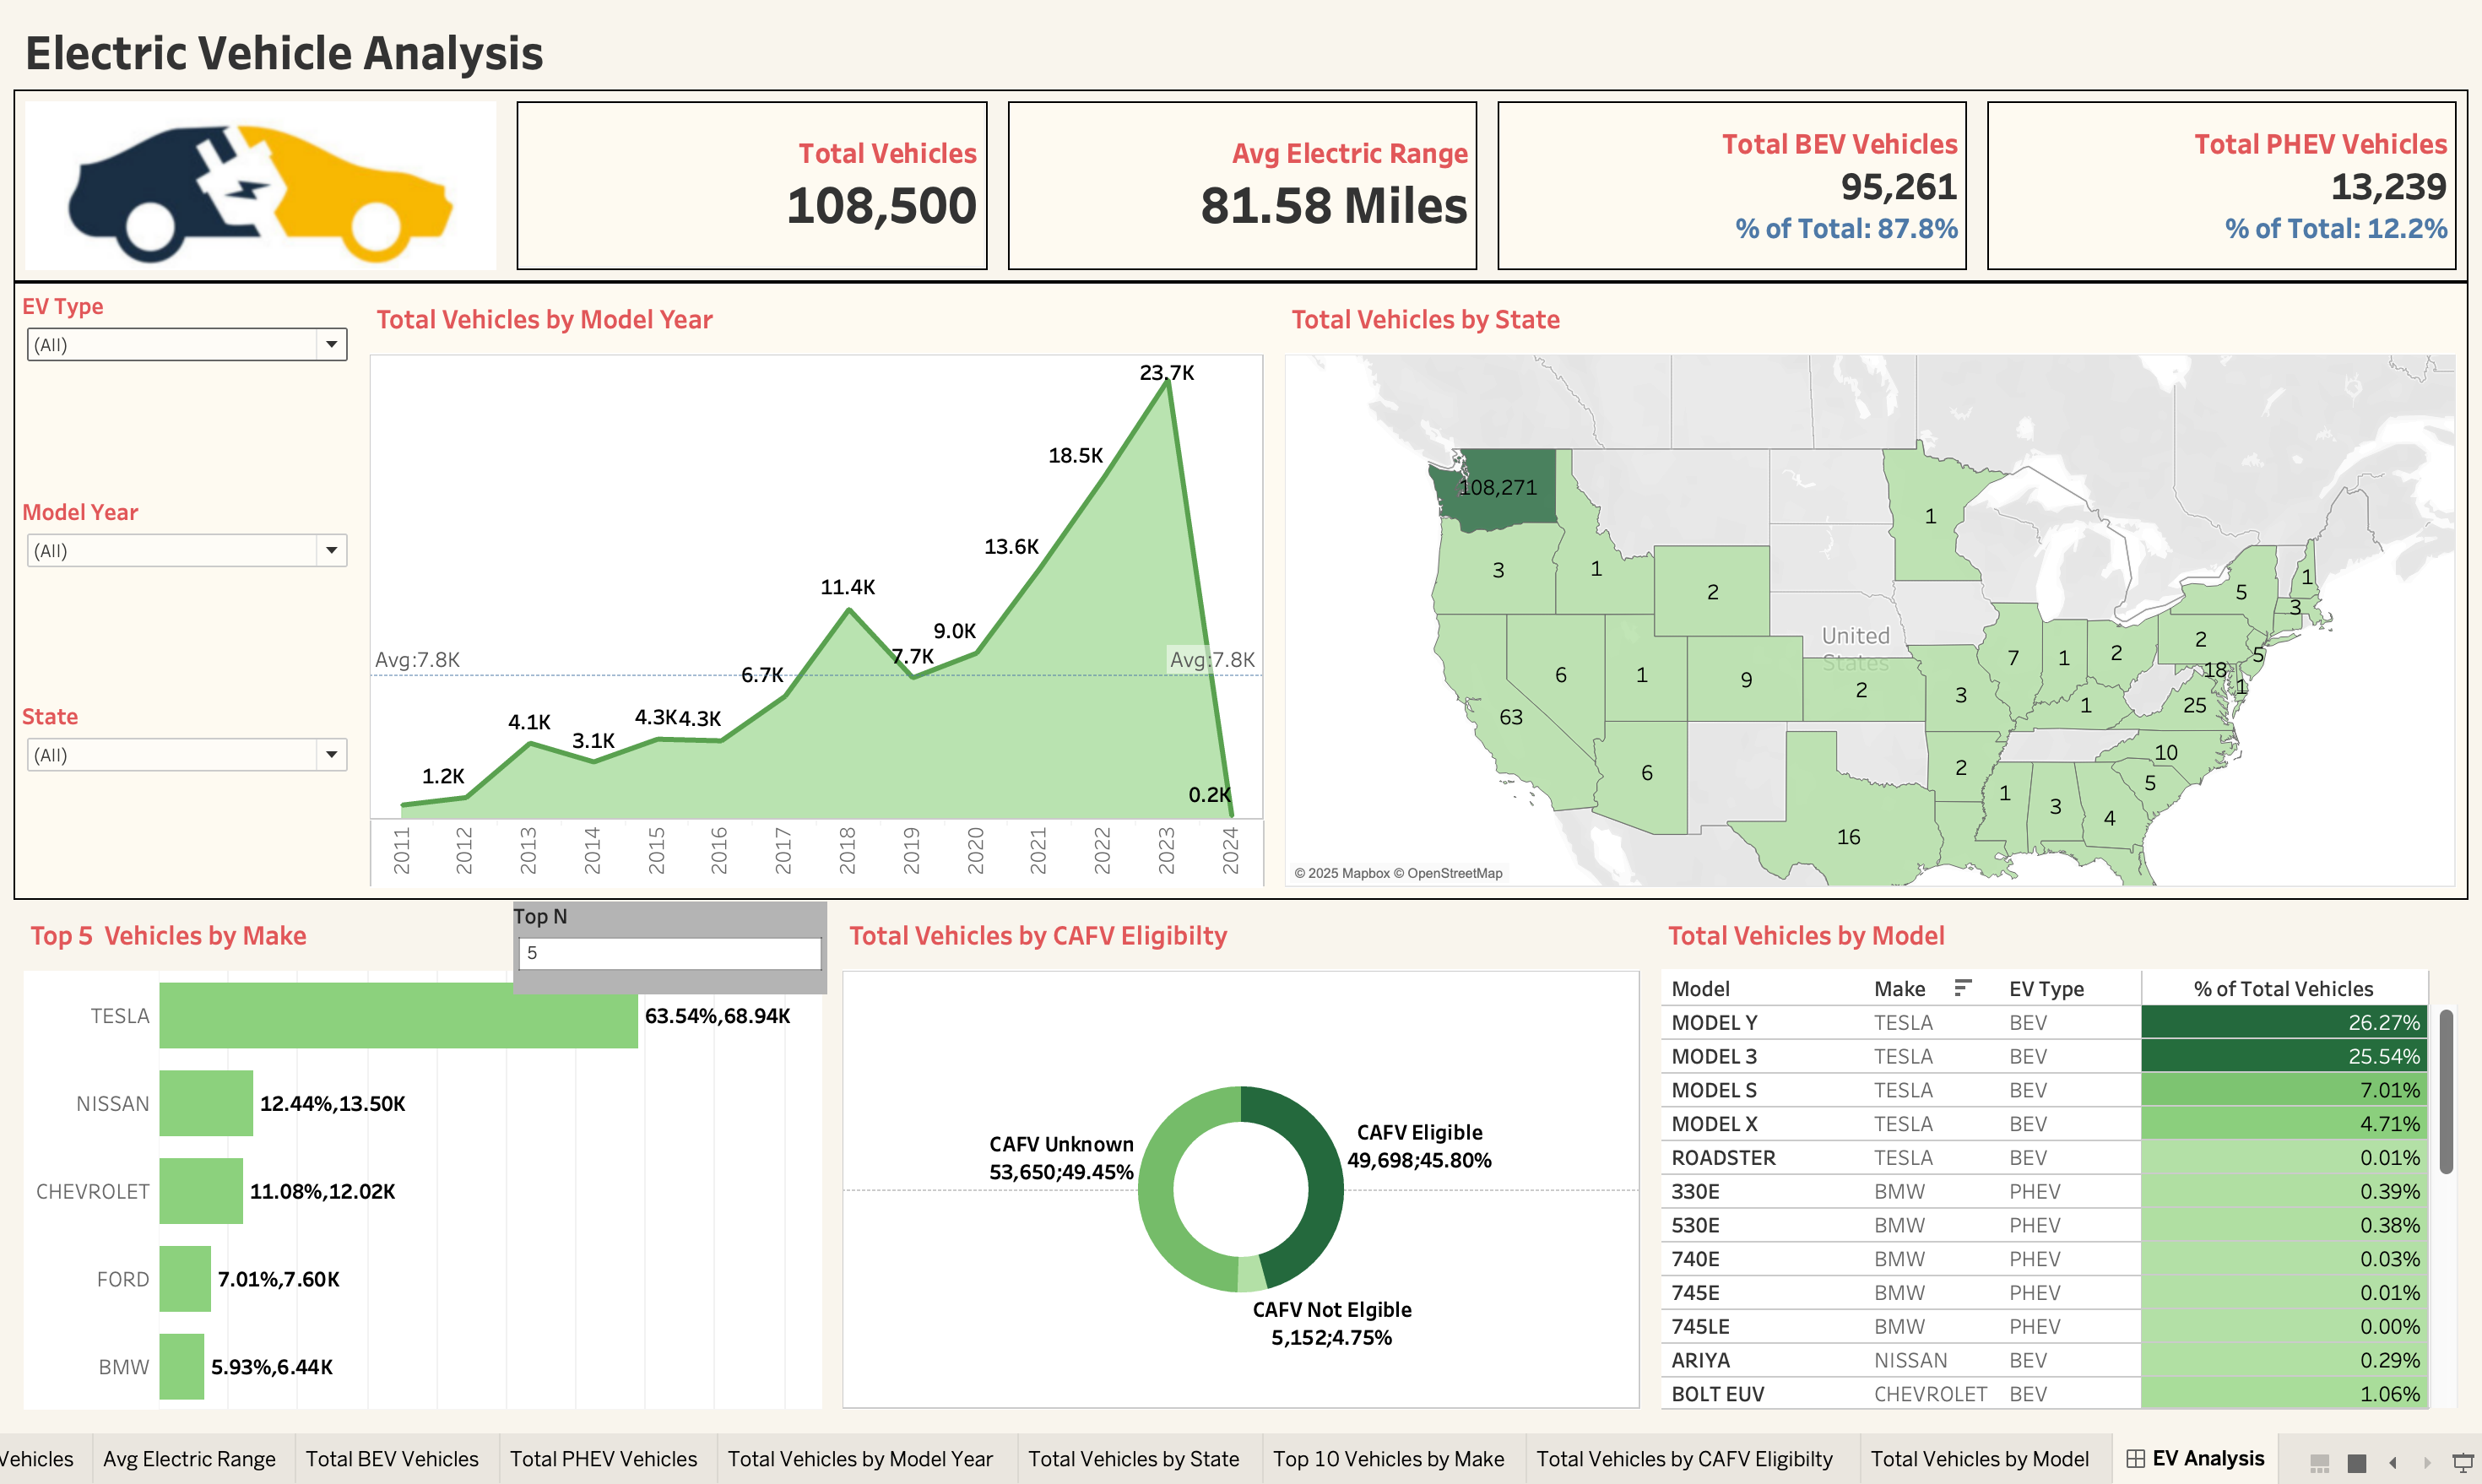

The dashboard page shown, as its layout file describes it:
{"tool":"tableau","page":{"name":"EV Analysis","canvas":[1000,1000],"units":"permille","ordinal":0},"visuals":[{"type":"title","box":[6.3,11.9,987.3,66.9]},{"type":"image","param":"Image/Screenshot 2025-01-26 at 3.29.00 AM.png","box":[7.1,80.2,197.8,127.8]},{"type":"worksheet","title":"Total Vehicles","mark":"Automatic","box":[204.9,80.2,197,127.8]},{"type":"worksheet","title":"Avg Electric Range","mark":"Automatic","box":[401.9,80.2,197,127.8]},{"type":"worksheet","title":"Total BEV Vehicles","mark":"Automatic","box":[598.9,80.2,197,127.8]},{"type":"worksheet","title":"Total PHEV Vehicles","mark":"Automatic","box":[795.9,80.2,197,127.8]},{"type":"worksheet","title":"Total Vehicles by Model Year","mark":"Area","rows":["Calculation_6984731218533982208","Calculation_6984731218533982208"],"cols":["Model Year"],"box":[168.5,210.7,428.8,414.8]},{"type":"worksheet","title":"Total Vehicles by State","mark":"Multipolygon","box":[597.3,210.7,395.6,414.8]},{"type":"filter","title":"Total Vehicles by Model Year","param":"[federated.1benvxc083y2tz1dtitz9054t0jk].[none:Electric Vehicle Type:nk]","box":[7.1,211,161.4,138.2]},{"type":"filter","title":"Total Vehicles by Model Year","param":"[federated.1benvxc083y2tz1dtitz9054t0jk].[none:Model Year:ok]","box":[7.1,349.2,161.4,138.2]},{"type":"filter","title":"Total Vehicles by Model Year","param":"[federated.1benvxc083y2tz1dtitz9054t0jk].[none:State:nk]","box":[7.1,487.4,161.4,138.2]},{"type":"worksheet","title":"Top 10 Vehicles by Make","mark":"Automatic","rows":["Make"],"cols":["Calculation_6984731218533982208"],"box":[6.3,627,329.1,361.1]},{"type":"worksheet","title":"Total Vehicles by CAFV Eligibilty","mark":"Pie","rows":["Calculation_82964789631516675","Calculation_82964789631516675"],"box":[335.4,627,329.1,361.1]},{"type":"worksheet","title":"Total Vehicles by Model","mark":"Square","rows":["Model","Make","Electric Vehicle Type"],"box":[664.6,627,329.1,361.1]},{"type":"parameter","param":"[Parameters].[Parameter 1]","box":[206.5,628.5,126.6,65.4]}]}

Visuals, with their boxes on the dashboard's canvas, which has no fixed pixel size, in thousandths of its width and height (x1, y1, x2, y2). These are canvas units, not pixel positions in the 2482x1484 screenshot, which may show the page scaled, cropped or inside an application window:
title: detection(6, 12, 994, 79)
image: detection(7, 80, 205, 208)
"Total Vehicles" worksheet: detection(205, 80, 402, 208)
"Avg Electric Range" worksheet: detection(402, 80, 599, 208)
"Total BEV Vehicles" worksheet: detection(599, 80, 796, 208)
"Total PHEV Vehicles" worksheet: detection(796, 80, 993, 208)
"Total Vehicles by Model Year" worksheet (Area marks): detection(168, 211, 597, 626)
"Total Vehicles by State" worksheet (Multipolygon marks): detection(597, 211, 993, 626)
"Total Vehicles by Model Year" filter: detection(7, 211, 168, 349)
"Total Vehicles by Model Year" filter: detection(7, 349, 168, 487)
"Total Vehicles by Model Year" filter: detection(7, 487, 168, 626)
"Top 10 Vehicles by Make" worksheet: detection(6, 627, 335, 988)
"Total Vehicles by CAFV Eligibilty" worksheet (Pie marks): detection(335, 627, 664, 988)
"Total Vehicles by Model" worksheet (Square marks): detection(665, 627, 994, 988)
parameter: detection(206, 628, 333, 694)
